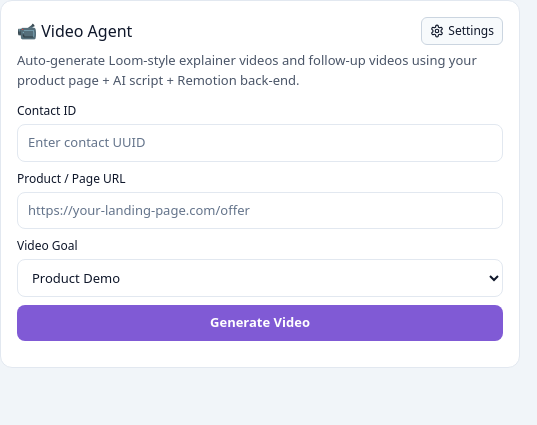
it: VideoAgentPanel › Form Validation › should show error when product URL is empty
Type "contact-123" into the field with placeholder "Enter contact UUID" at x=260, y=143, box [17,124,503,162]
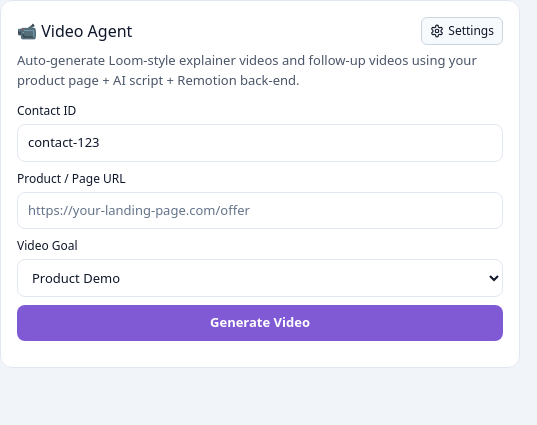
Click the button "Generate Video" at x=260, y=323, box [17,305,503,340]
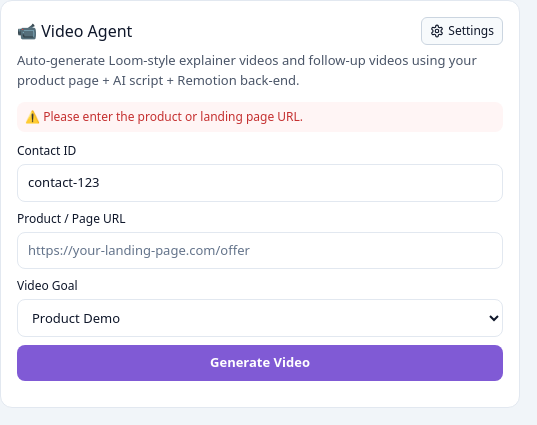
Check: the text "⚠️ Please enter the product or landing page URL." is shown, box [17,102,503,132]
